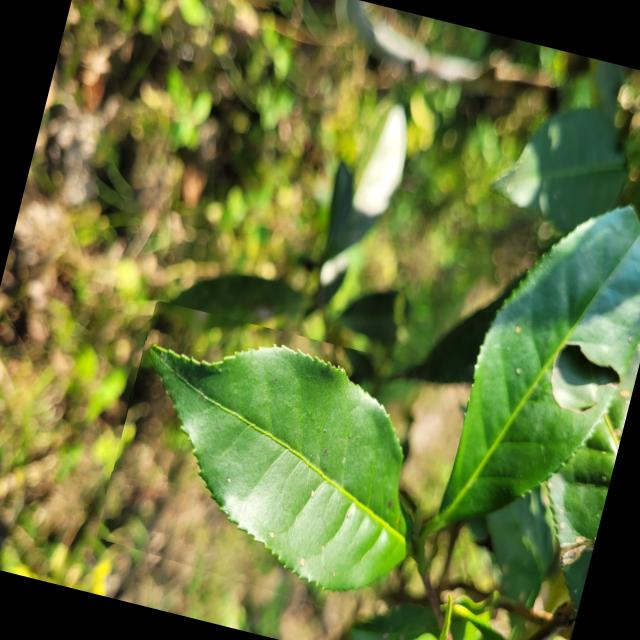Category D(7+ days, Not for Tea): (90, 299, 473, 633)
